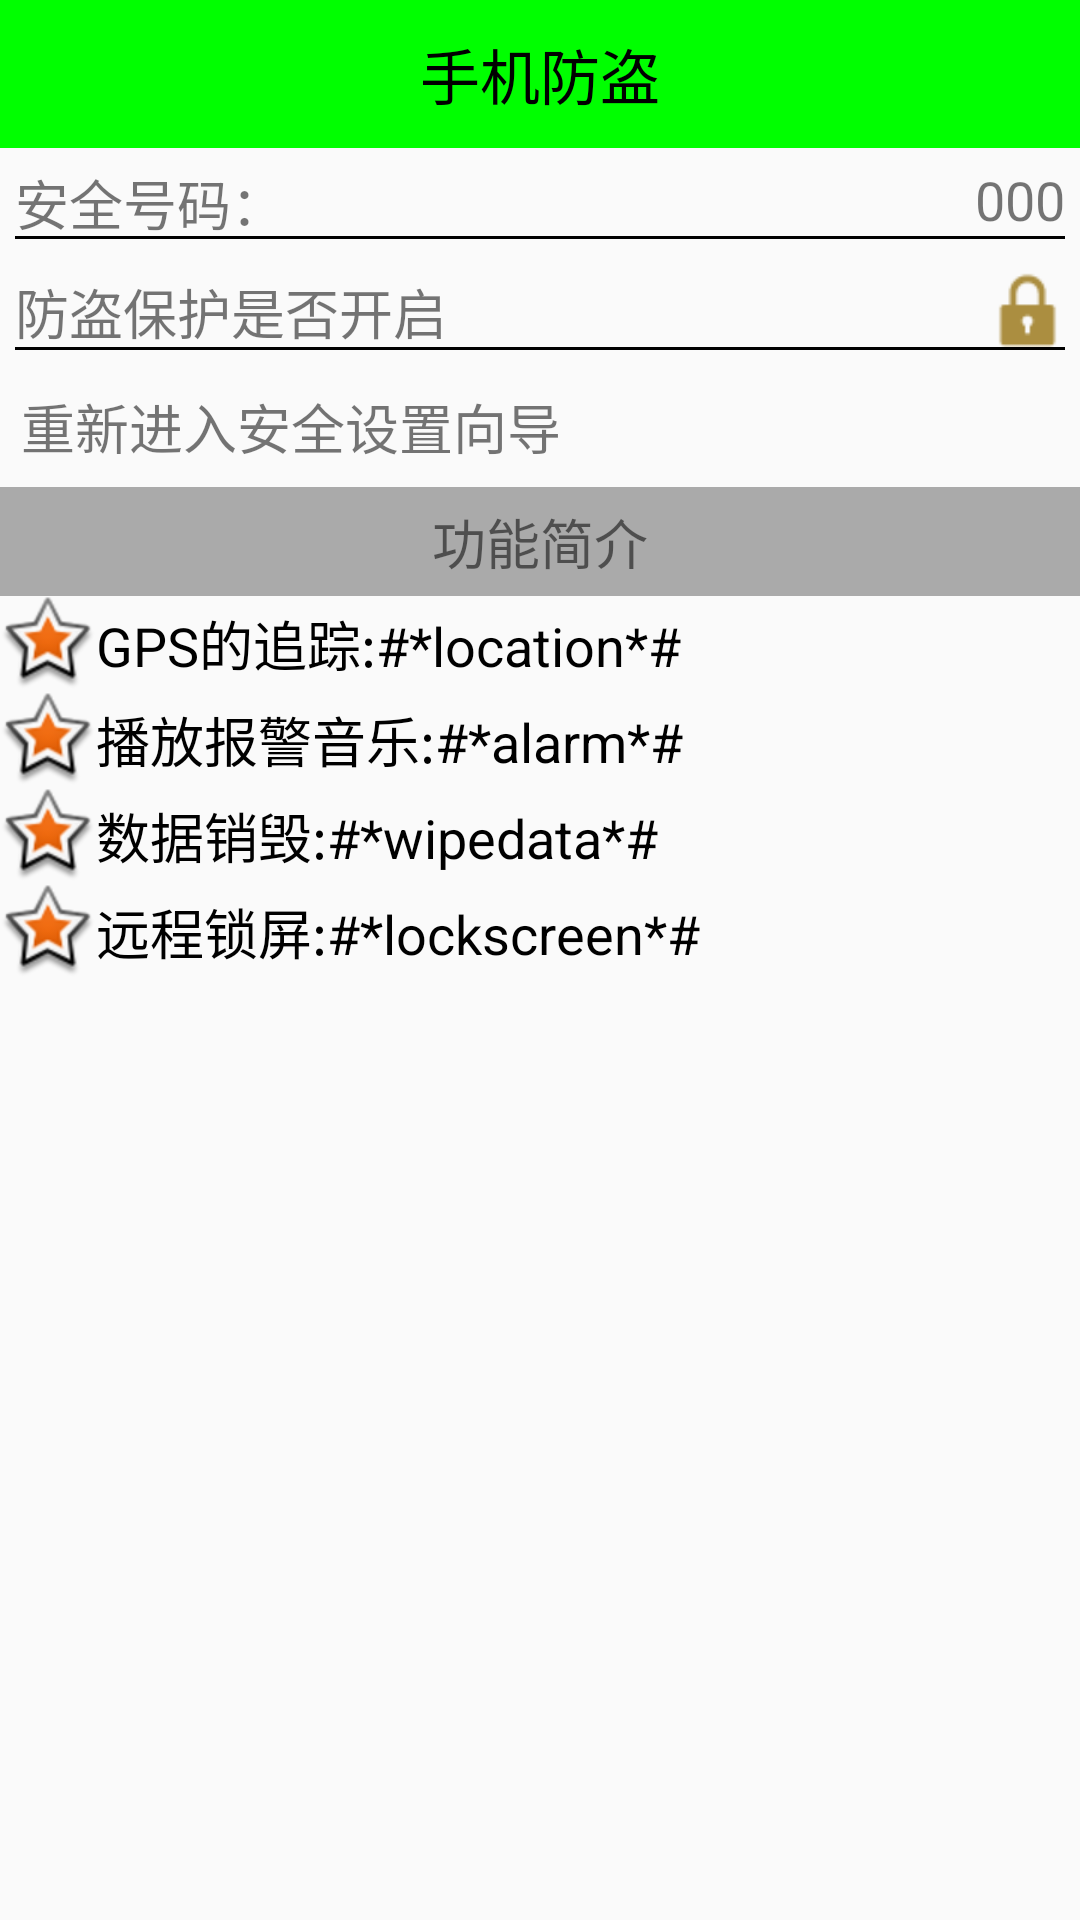

Where icons sit on this 1080px×1920px app screen, as (x1, y1, x2, y2):
lock: (999, 274, 1056, 347)
